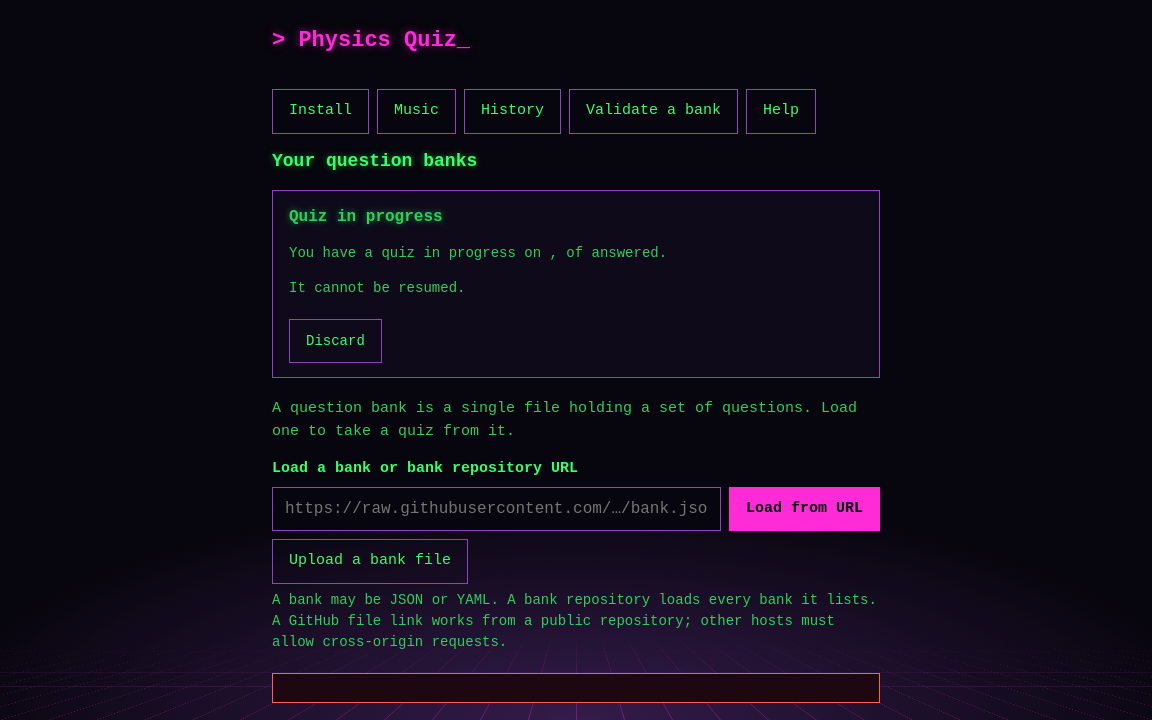
Test: the install button › appears on the library when the browser offers installation, and installs
The image size is (1152, 720).
Click the button "Install": (320, 111) [272, 89, 369, 134]
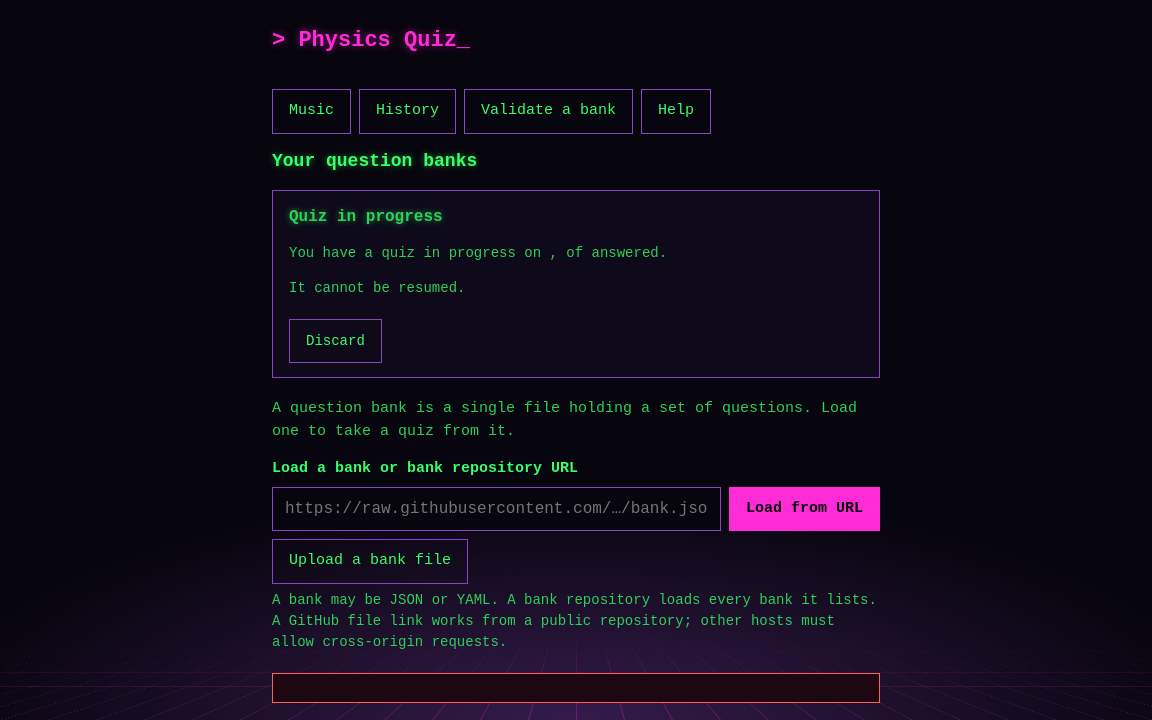
Expected: the button "Install" is gone
